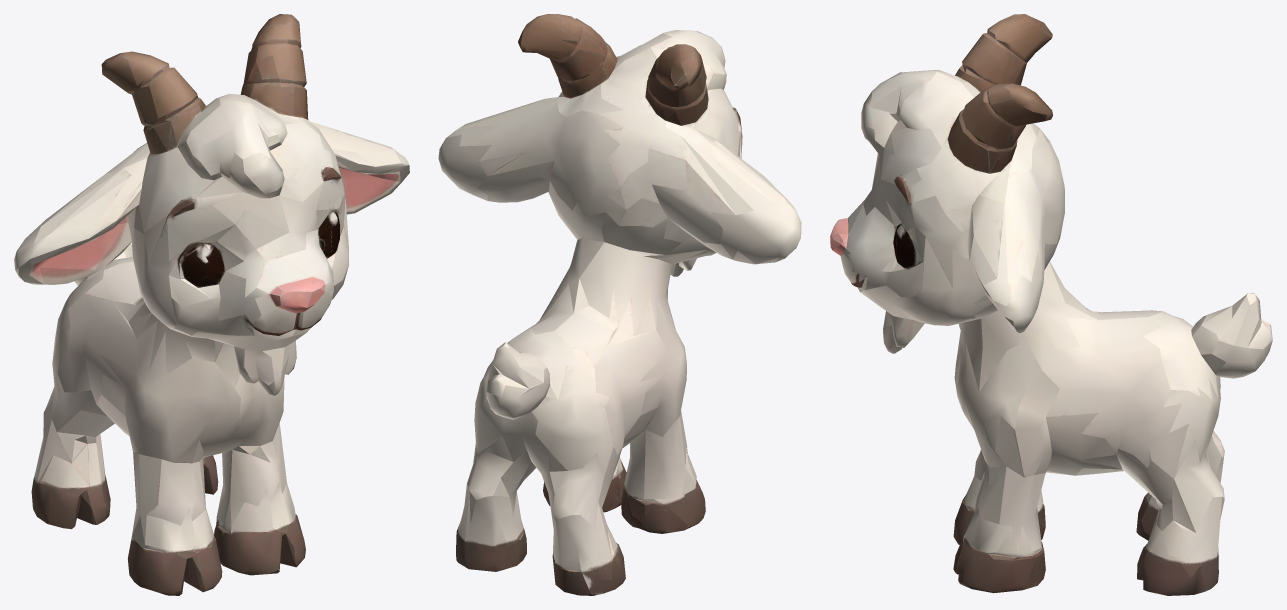
The model's file is goat.glb.
3 views of the same model, side by side, from view 1: azimuth 30°, elevation 25°; view 2: azimuth 150°, elevation 25°; view 3: azimuth 270°, elevation 25° (orthographic). The views are drawn at different scales.
Size of the model in its own units: 1.48 by 1.9 by 1.51.
1 material, 1 textured.
